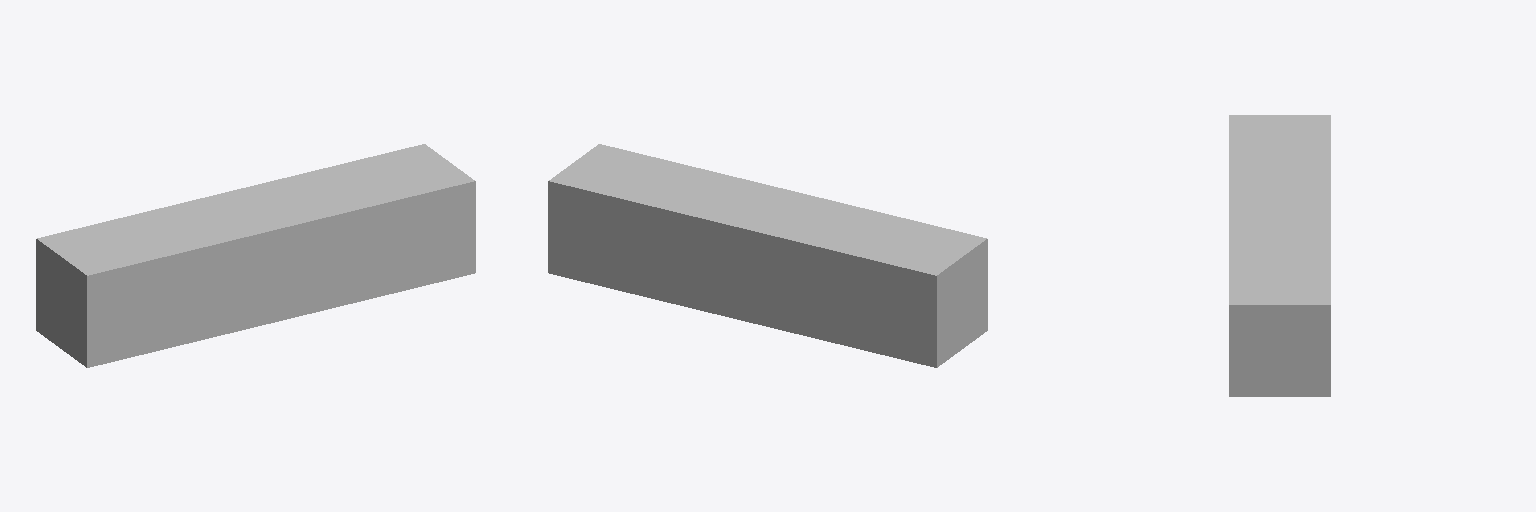
The model's file is Junction Wall.obj.
The picture shows the model from 3 angles: view 1: azimuth 30°, elevation 25°; view 2: azimuth 150°, elevation 25°; view 3: azimuth 270°, elevation 25°; orthographic projection.
Size of the model in its own units: 44 by 10 by 10.